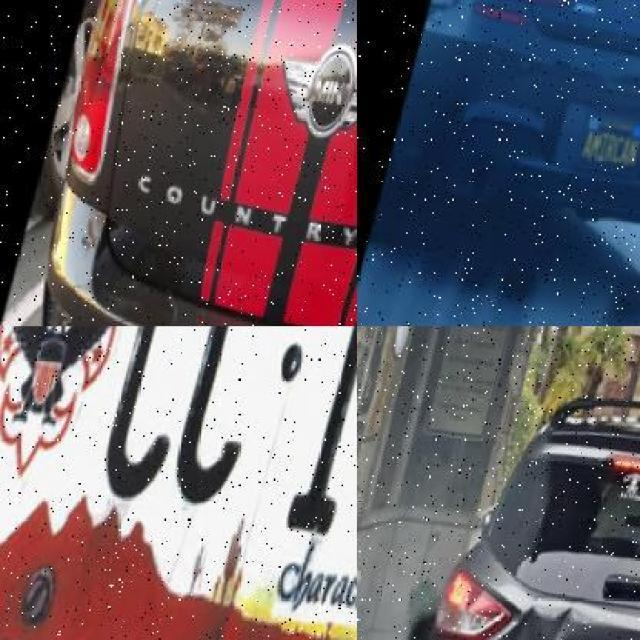LicensePlate: (81, 326, 357, 614), (572, 102, 640, 188)
